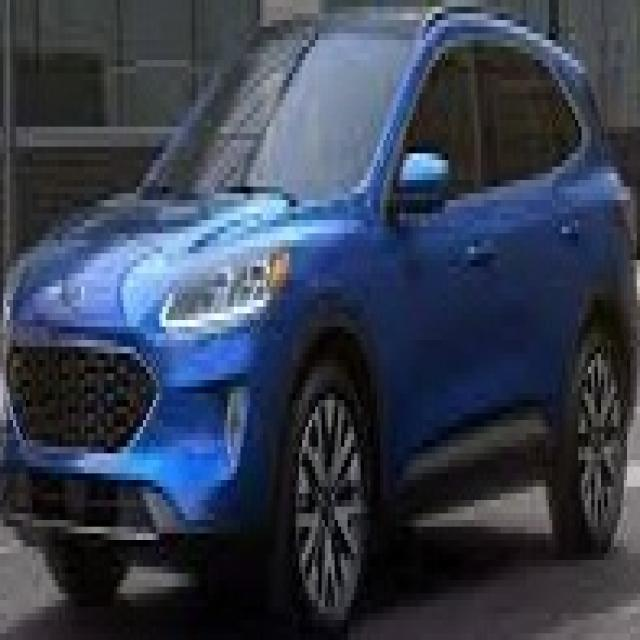blue: (1, 10, 640, 606)
